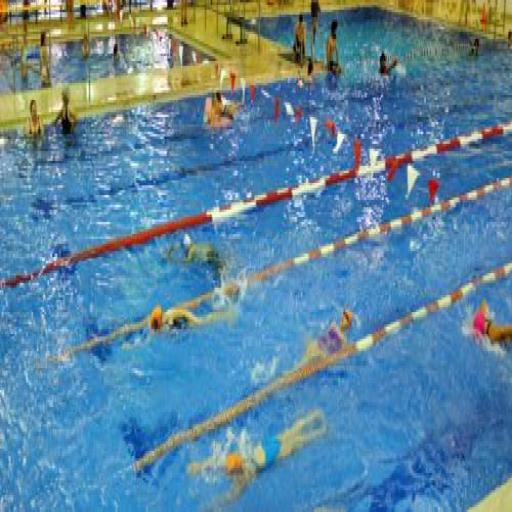swimming: (469, 297, 510, 356), (204, 85, 235, 132), (52, 86, 78, 142), (324, 15, 342, 83), (23, 95, 44, 144), (291, 10, 307, 68), (376, 46, 399, 83)
